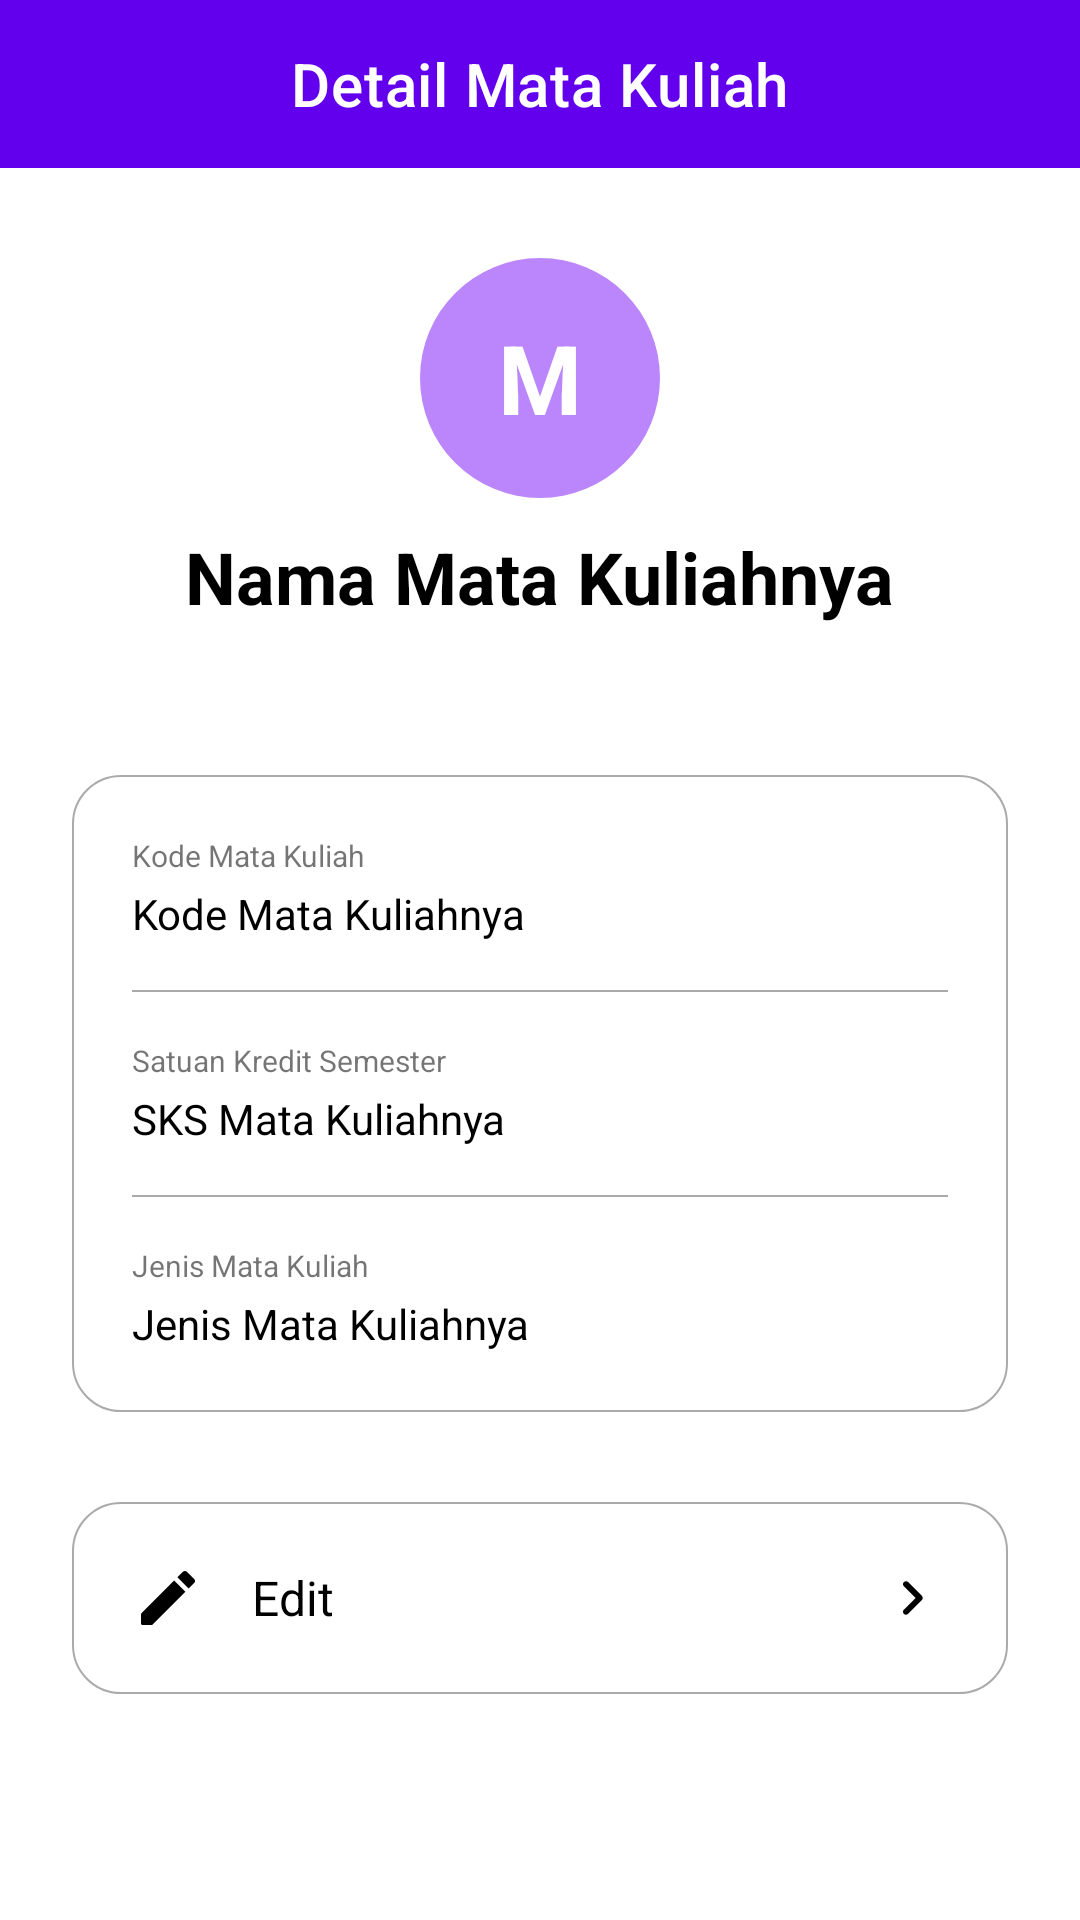

Where icons sit on this 1080w x 1920h app screen, as region(x1, y1, x2, y2):
chevron right: region(903, 1581, 923, 1615)
